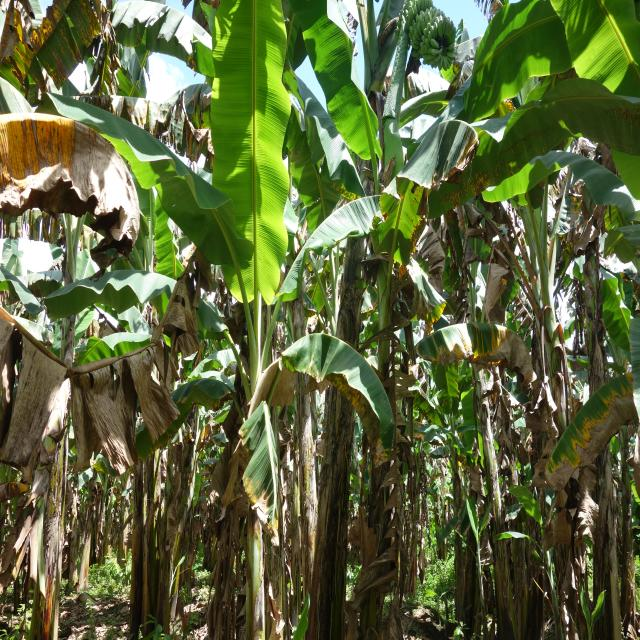Banana-plant: (298, 119, 384, 640), (526, 257, 591, 640), (458, 273, 517, 640), (238, 303, 277, 640), (29, 284, 59, 640)
